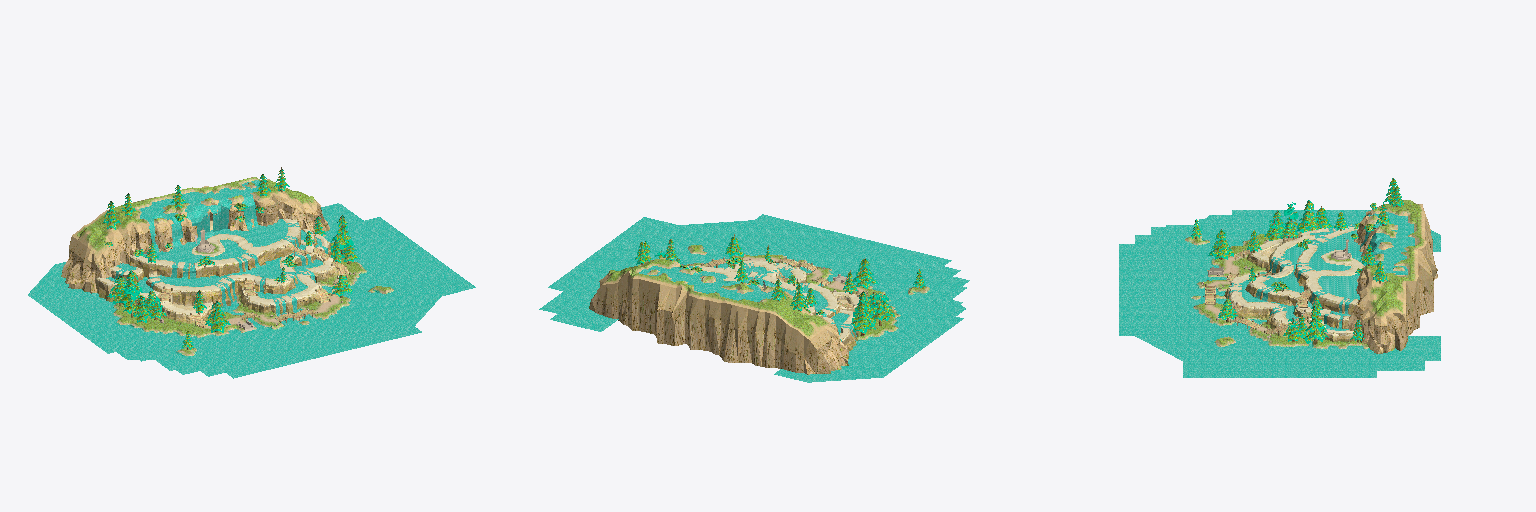
The picture shows the model from 3 angles: view 1: azimuth 30°, elevation 25°; view 2: azimuth 150°, elevation 25°; view 3: azimuth 270°, elevation 25°; orthographic projection.
Visible parts, largest first — view 1: water05, ground, tree, water01, water03, bridge, water02, water04; view 2: water05, ground, tree, water03, water01, bridge; view 3: water05, ground, tree, water01, water03, bridge, water02.
Part boxes in pixels (bbox=[...]): water05: bbox=[28, 203, 475, 378]; ground: bbox=[61, 177, 457, 370]; tree: bbox=[103, 167, 359, 349]; water01: bbox=[106, 219, 322, 298]; water03: bbox=[139, 180, 261, 228]; bridge: bbox=[160, 242, 348, 327]; water02: bbox=[115, 222, 327, 313]; water04: bbox=[150, 201, 258, 251]; water05: bbox=[541, 214, 969, 382]; ground: bbox=[539, 245, 966, 374]; tree: bbox=[635, 234, 925, 335]; water03: bbox=[639, 266, 775, 301]; water01: bbox=[700, 266, 849, 334]; bridge: bbox=[688, 257, 867, 307]; water05: bbox=[1119, 210, 1440, 377]; ground: bbox=[1166, 200, 1437, 370]; tree: bbox=[1191, 178, 1403, 344]; water01: bbox=[1241, 230, 1365, 330]; water03: bbox=[1368, 212, 1414, 274]; bridge: bbox=[1205, 234, 1312, 335]; water02: bbox=[1228, 224, 1355, 331].
Size of the model in its own units: 9655 by 2235 by 7839.
Materials: 30 (29 with a texture image).